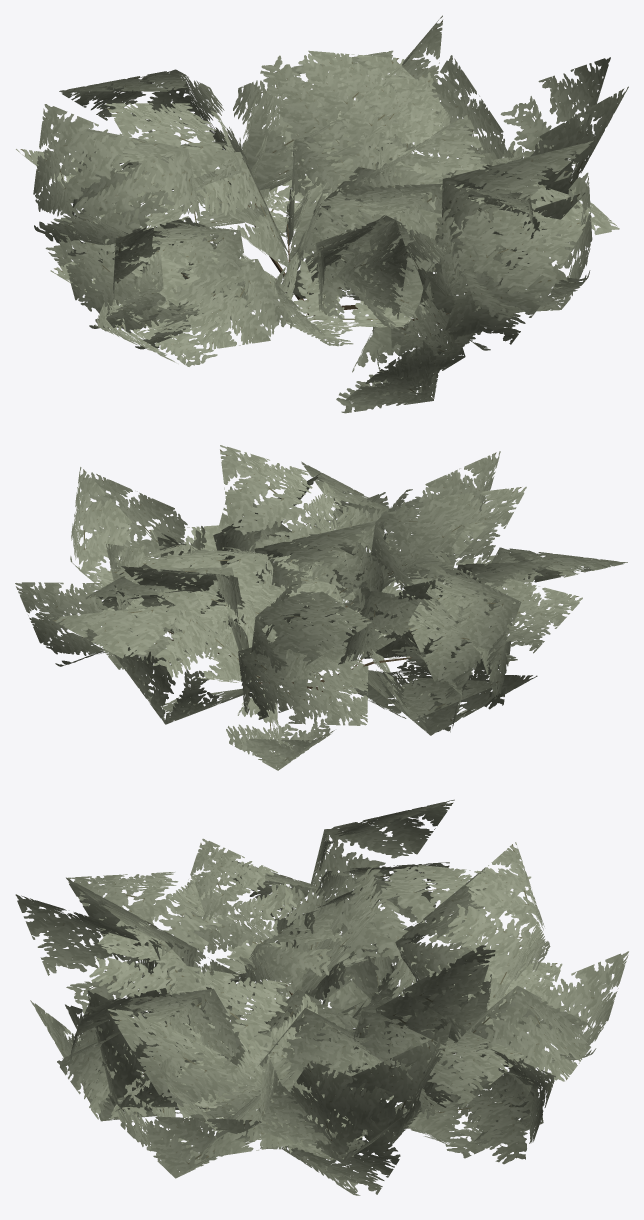
The model's file is SM_CN_Sage_C_LOD2.glb.
3 renders of one model, top to bottom at view 1: azimuth 30°, elevation 25°; view 2: azimuth 150°, elevation 25°; view 3: azimuth 270°, elevation 25°, orthographic. The views are drawn at different scales.
Parts seen in each view (by area): view 1: SM_CN_Sage_C_LOD2; view 2: SM_CN_Sage_C_LOD2; view 3: SM_CN_Sage_C_LOD2.
Boxes of the visible parts, bbox=[...] form: SM_CN_Sage_C_LOD2: bbox=[16, 15, 628, 413]; SM_CN_Sage_C_LOD2: bbox=[15, 445, 627, 770]; SM_CN_Sage_C_LOD2: bbox=[15, 799, 628, 1195].
Bounding box in the file's own units: 0.84 × 0.34 × 0.8137.
2 materials, 2 textured.
